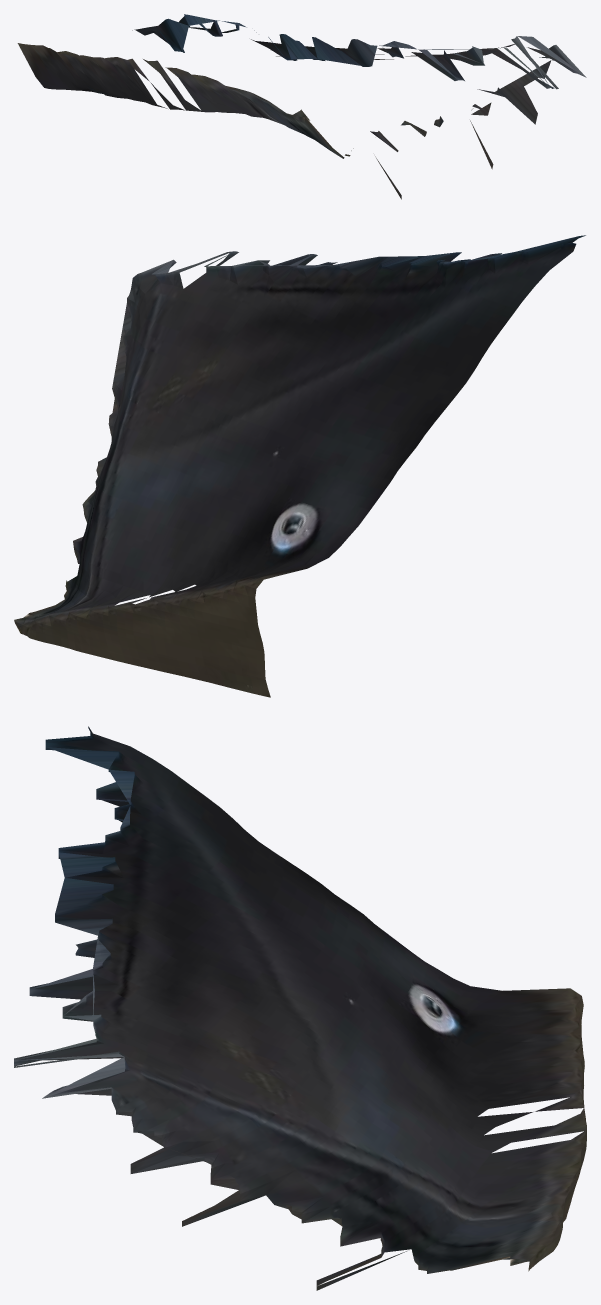
Rendered from observed-surface.glb.
3 views of the same model, one above another, from view 1: azimuth 30°, elevation 25°; view 2: azimuth 150°, elevation 25°; view 3: azimuth 270°, elevation 25° (orthographic). The views are drawn at different scales.
Visible parts, largest first — view 1: geometry_0; view 2: geometry_0; view 3: geometry_0.
Boxes of the visible parts, bbox=[...] form: geometry_0: bbox=[17, 14, 586, 199]; geometry_0: bbox=[14, 235, 585, 697]; geometry_0: bbox=[14, 726, 586, 1290].
Size of the model in its own units: 0.6034 by 0.4557 by 0.6347.
Materials: 1 (1 with a texture image).
